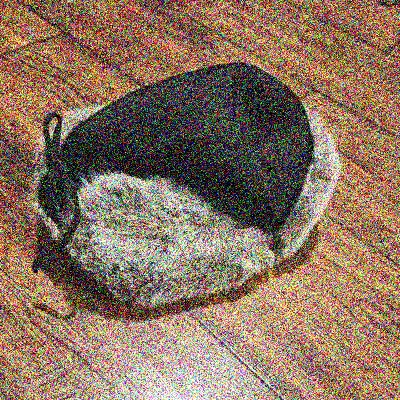Hat: (15, 51, 362, 318)
